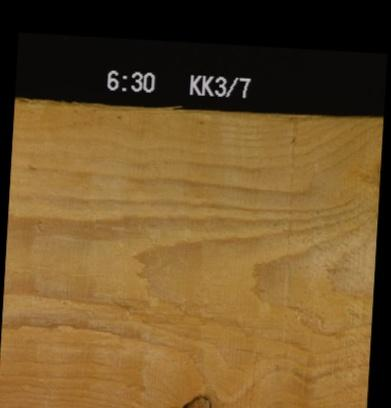wave: (13, 103, 284, 131)
